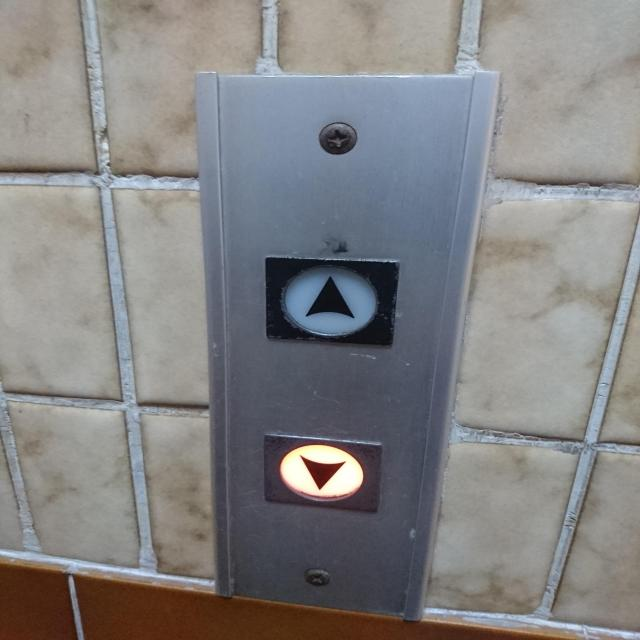down: (258, 423, 390, 518)
up: (261, 250, 405, 354)
